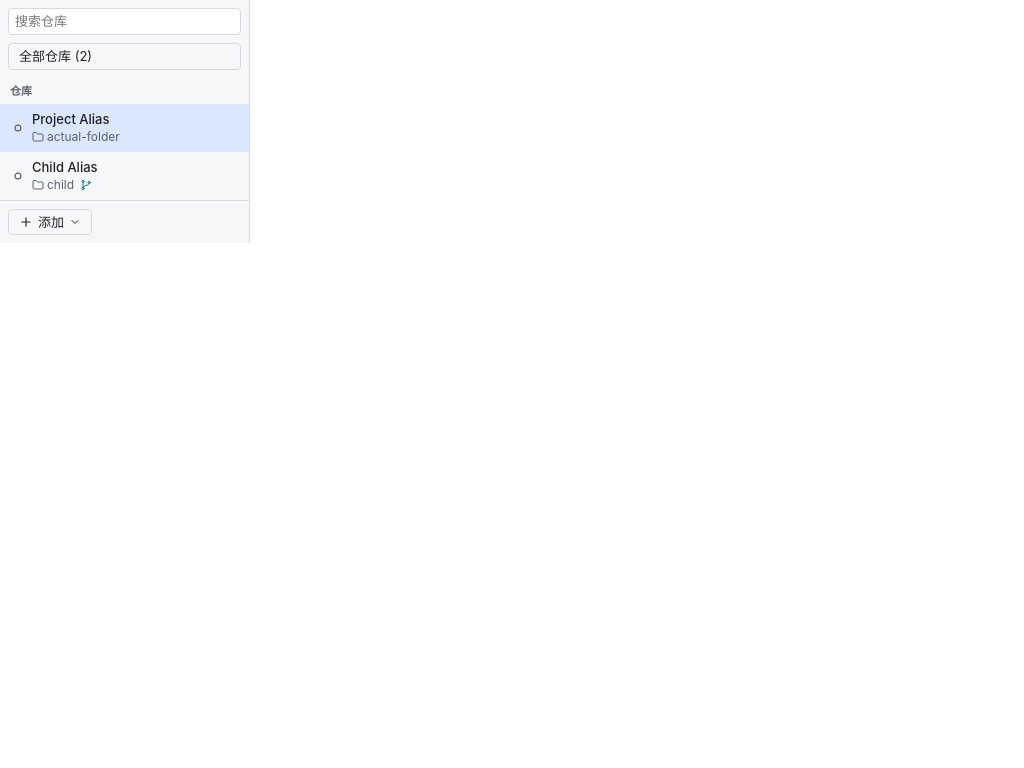
Test: opens nested scanning at the repository root and supports F2 rename
The image size is (1024, 768).
Right-click the button "Project Alias actual-folder" at (124, 128), box [0,104,249,152]
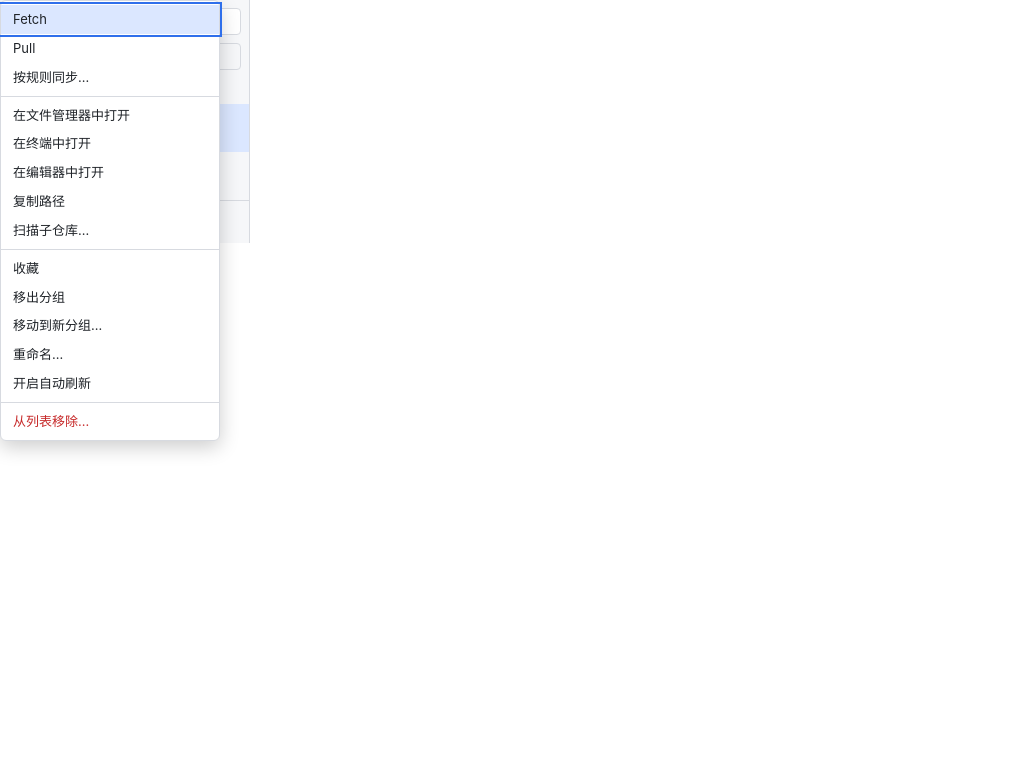
Click the menu item "扫描子仓库…" at (110, 230), box [1,216,219,245]
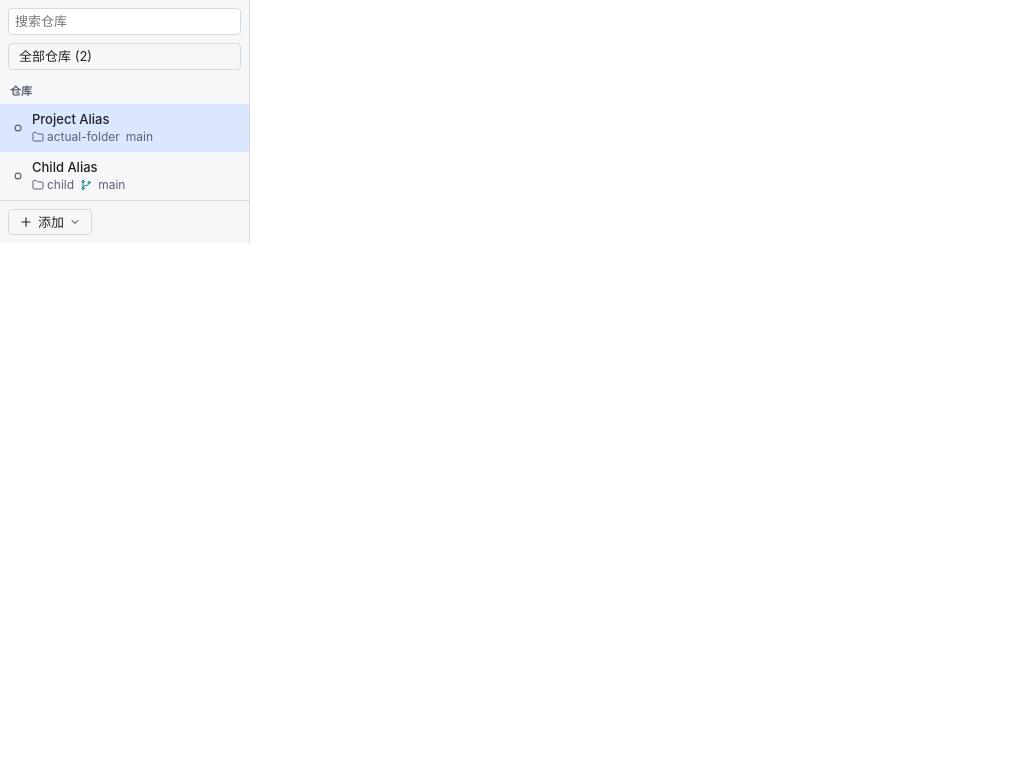
Press F2 in the button "Project Alias actual-folder main", box [0,104,249,152]
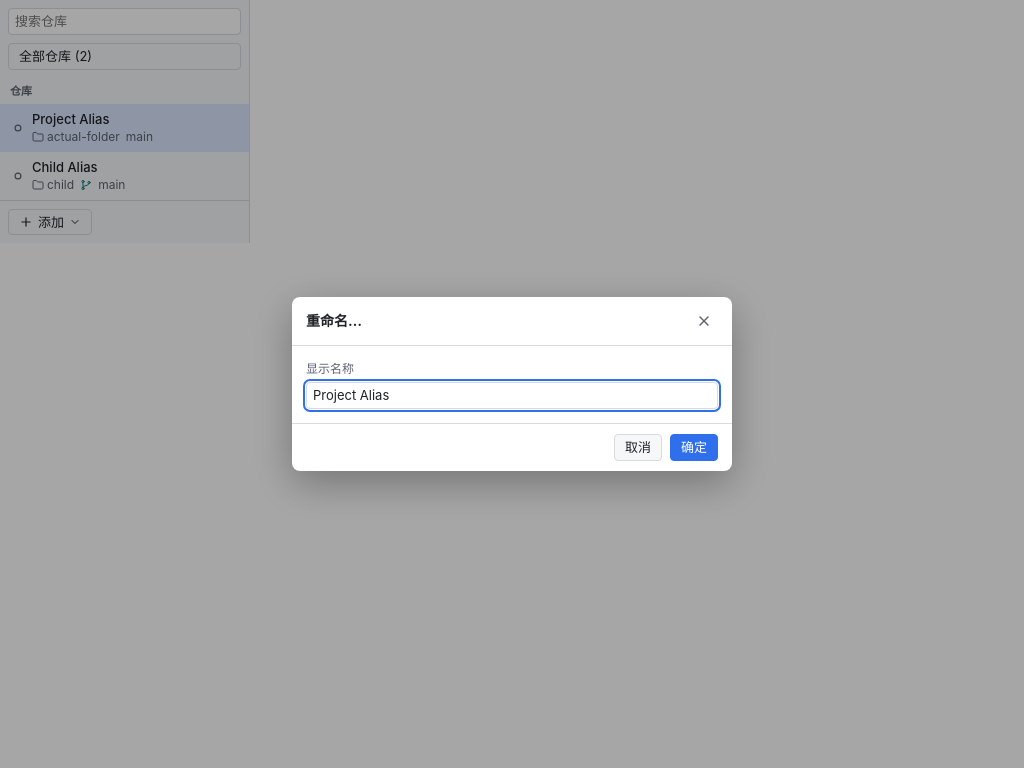
Check: the field labelled "显示名称" is shown, box [306,382,718,409]
